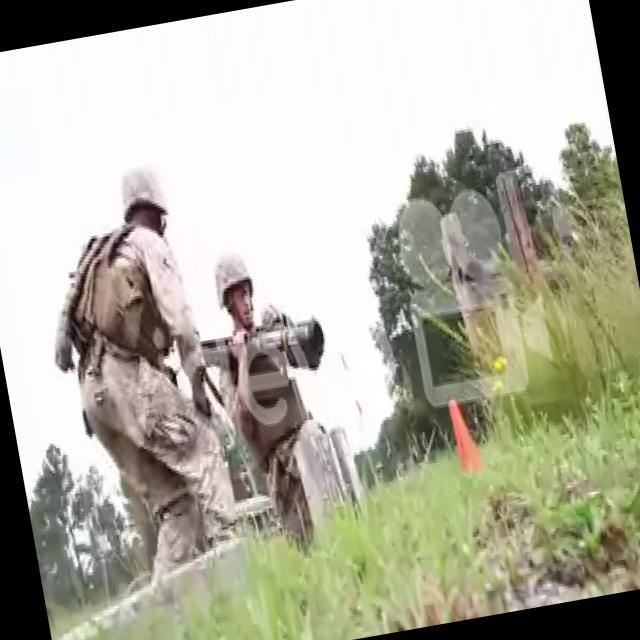rocket: (196, 307, 328, 386)
